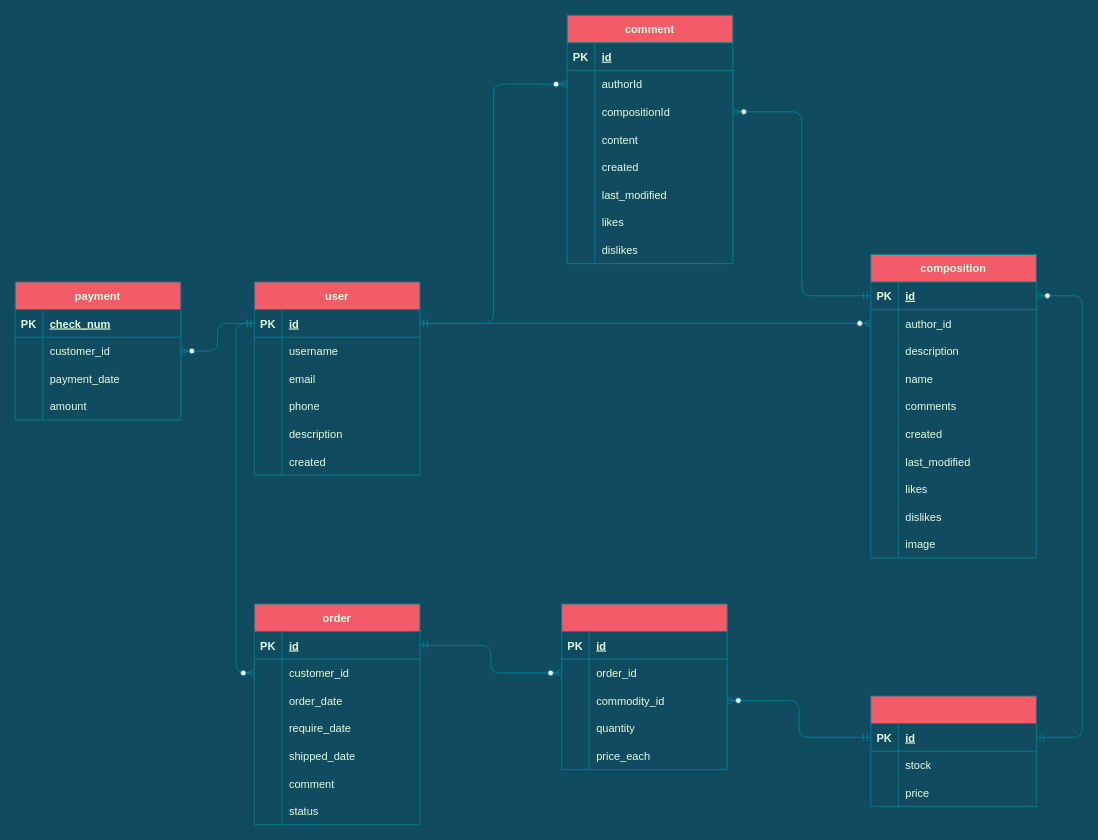
Some shapes in this 1098 by 840 pixel diagram are drawn without their labels. Here are the shapes that lost their labels. From the top down, the box of each, then its label:
(561, 603, 727, 770): order_commodity
(870, 695, 1036, 806): commodity
